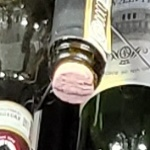bottle: (32, 25, 122, 118)
